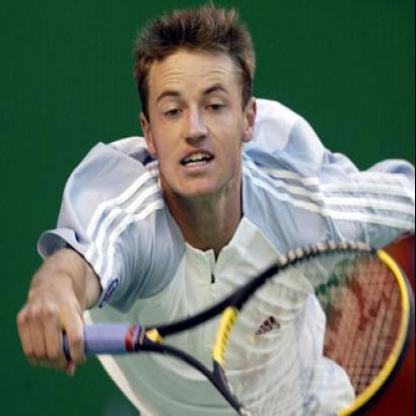face: (149, 17, 246, 204)
